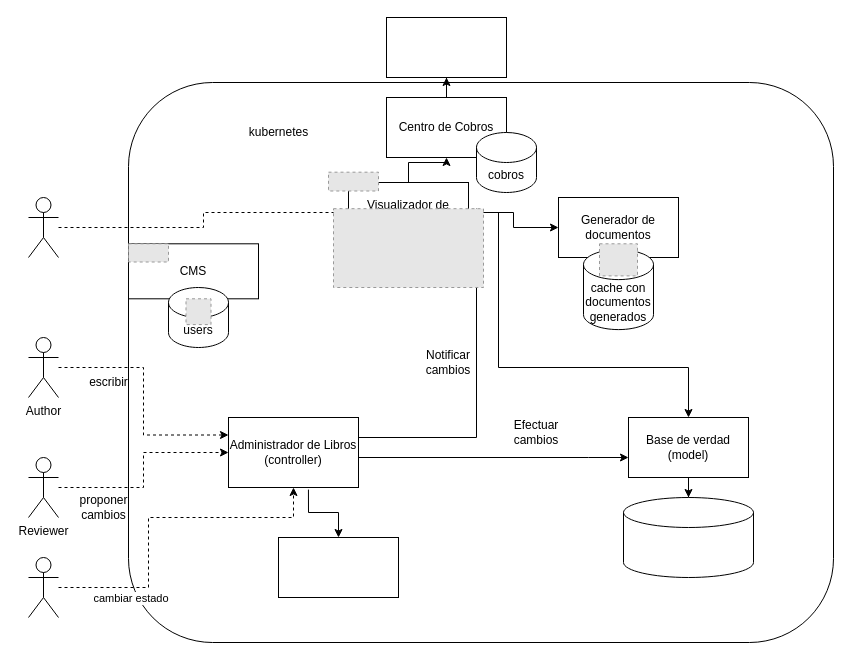
This 851x660 diagram has some shape labels left out. Grey dashed boxes stand in for pictures. The centre of each missing label's shape, as x and y in pixels:
"Centro de cobros externo" belongs at point 446,47.
"Customer" belongs at point 43,227.
"db de documentos" belongs at point 688,537.
"notificaciones" belongs at point 338,567.
"Publisher" belongs at point 43,587.
